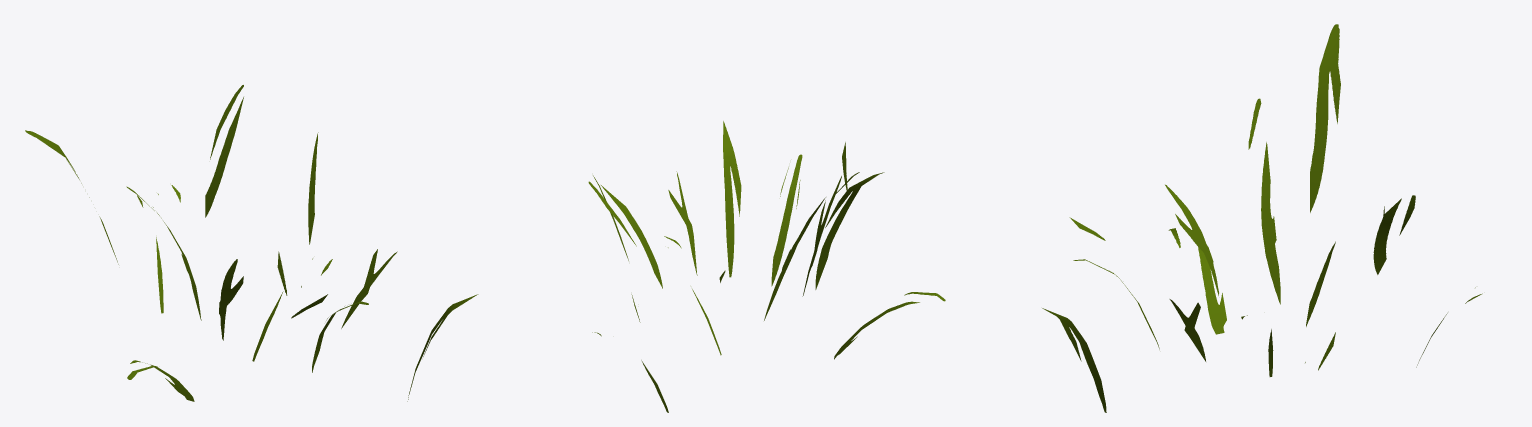
File: SM_Grass_02.fbx
3 views of the same model, side by side, from view 1: azimuth 30°, elevation 25°; view 2: azimuth 150°, elevation 25°; view 3: azimuth 270°, elevation 25° (orthographic).
Visible parts, largest first — view 1: SM_Grass_02_LOD0; view 2: SM_Grass_02_LOD0; view 3: SM_Grass_02_LOD0.
Boxes of the visible parts, left/top/right/bottom form: SM_Grass_02_LOD0: left=25, top=85, right=478, bottom=401; SM_Grass_02_LOD0: left=588, top=121, right=945, bottom=412; SM_Grass_02_LOD0: left=1042, top=24, right=1482, bottom=412.
Size of the model in its own units: 77.3 by 89.64 by 56.27.
1 material, 1 textured.
